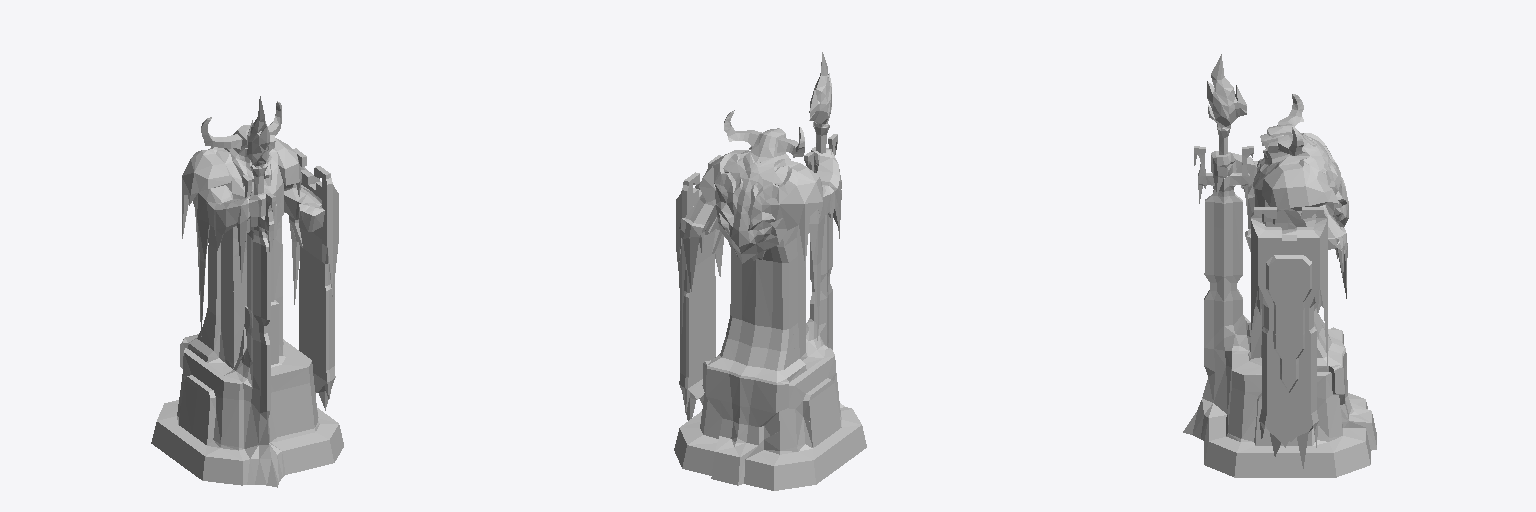
File: ha_order_turret.obj
3 renders of one model, left to right at view 1: azimuth 30°, elevation 25°; view 2: azimuth 150°, elevation 25°; view 3: azimuth 270°, elevation 25°, orthographic.
Visible parts, largest first — view 1: lolMesh_ha_ap_orderturret.002; view 2: lolMesh_ha_ap_orderturret.002; view 3: lolMesh_ha_ap_orderturret.002.
Part boxes in pixels (x1,y1,x2,y2): lolMesh_ha_ap_orderturret.002: (151,96,343,487); lolMesh_ha_ap_orderturret.002: (674,52,866,490); lolMesh_ha_ap_orderturret.002: (1183,54,1376,477).
Size of the model in its own units: 2.45 by 5.8 by 2.7.